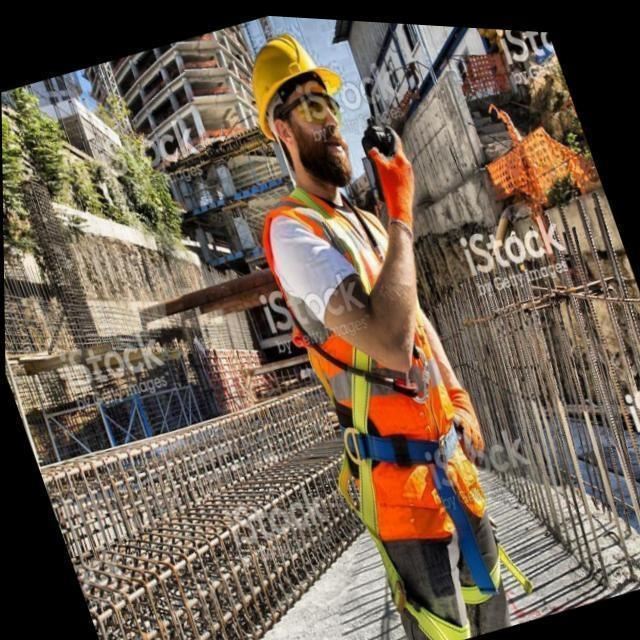Arnes_seguridad: (279, 176, 517, 617)
